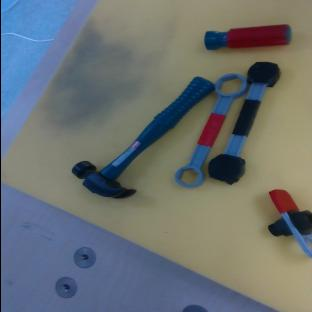part_1_good: (268, 189, 312, 258)
part_2_good: (204, 24, 292, 51)
part_3_bad: (204, 54, 283, 188)
part_3_good: (170, 67, 250, 194)
